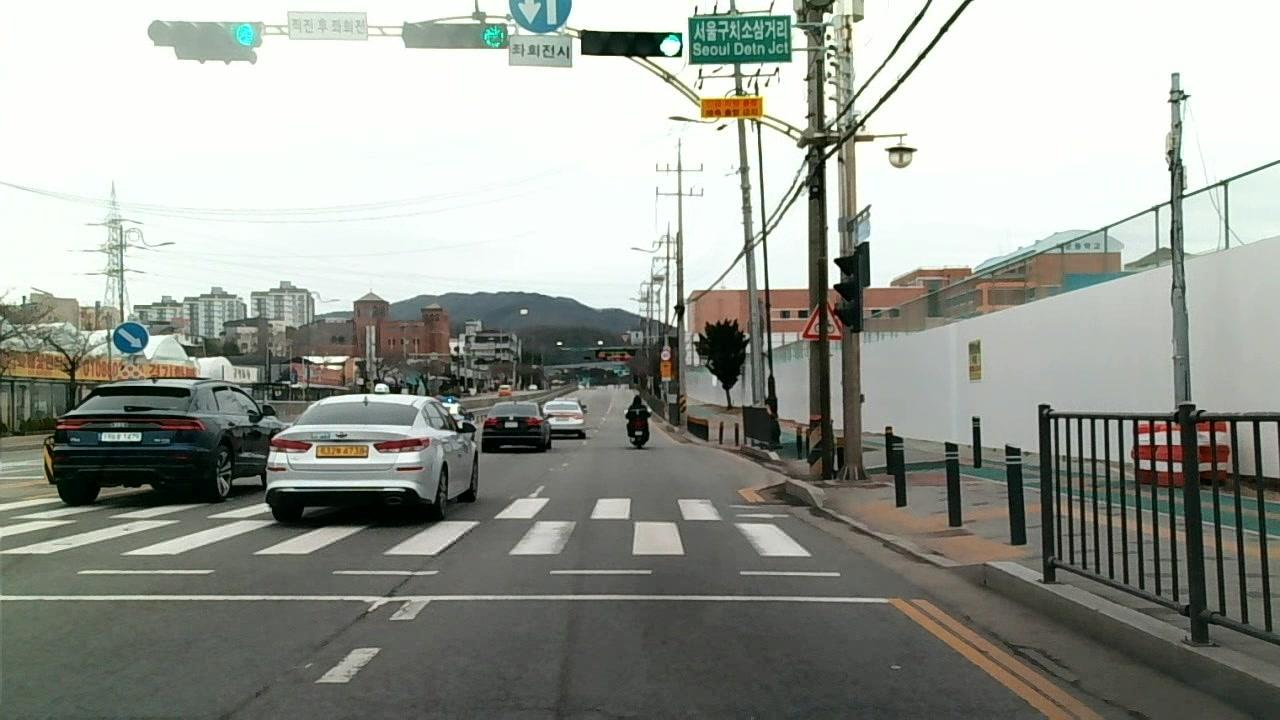banner: (974, 629, 1118, 710), (224, 631, 335, 720), (342, 569, 422, 626)
